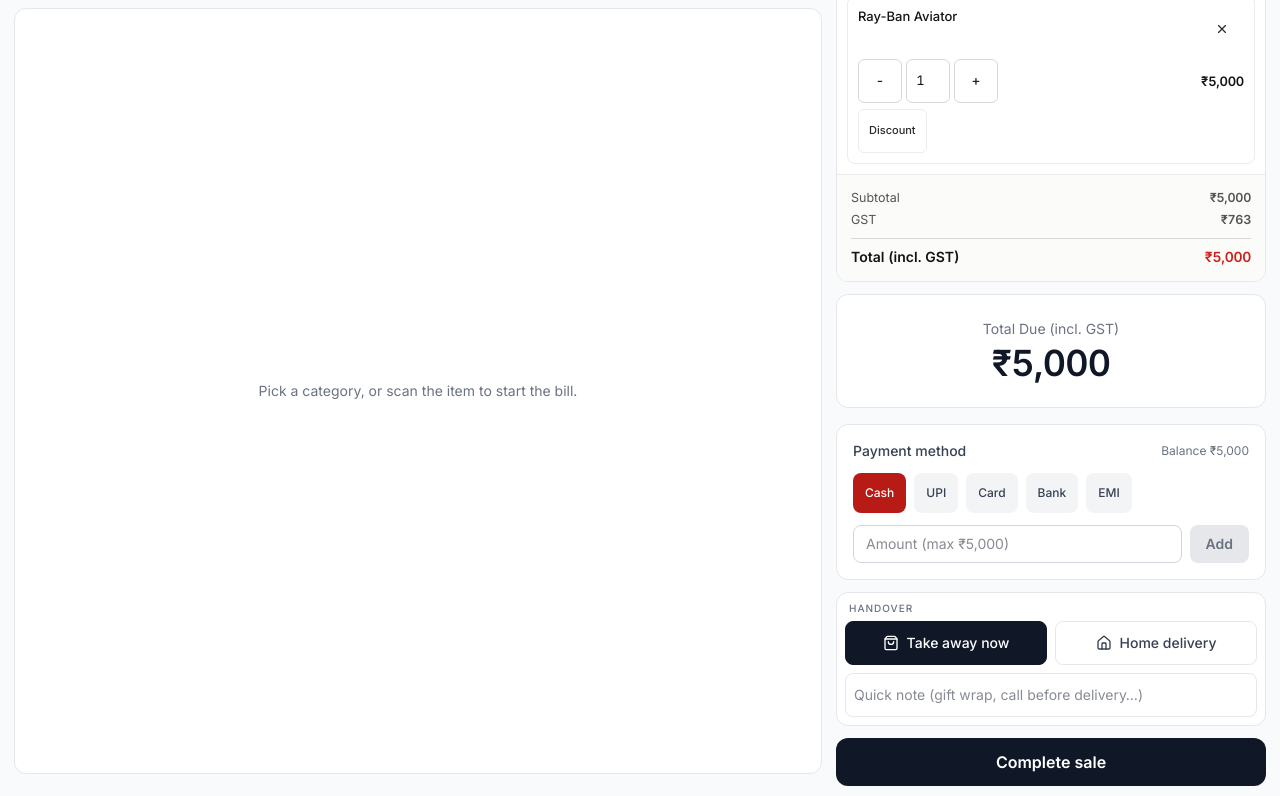
Test: the general counter can actually complete a sale › SHOWS something when the submit throws, rather than swallowing it
(page scrolled)
Click the button "Complete sale" at (1051, 762), box [836,738,1266,786]
(page scrolled)
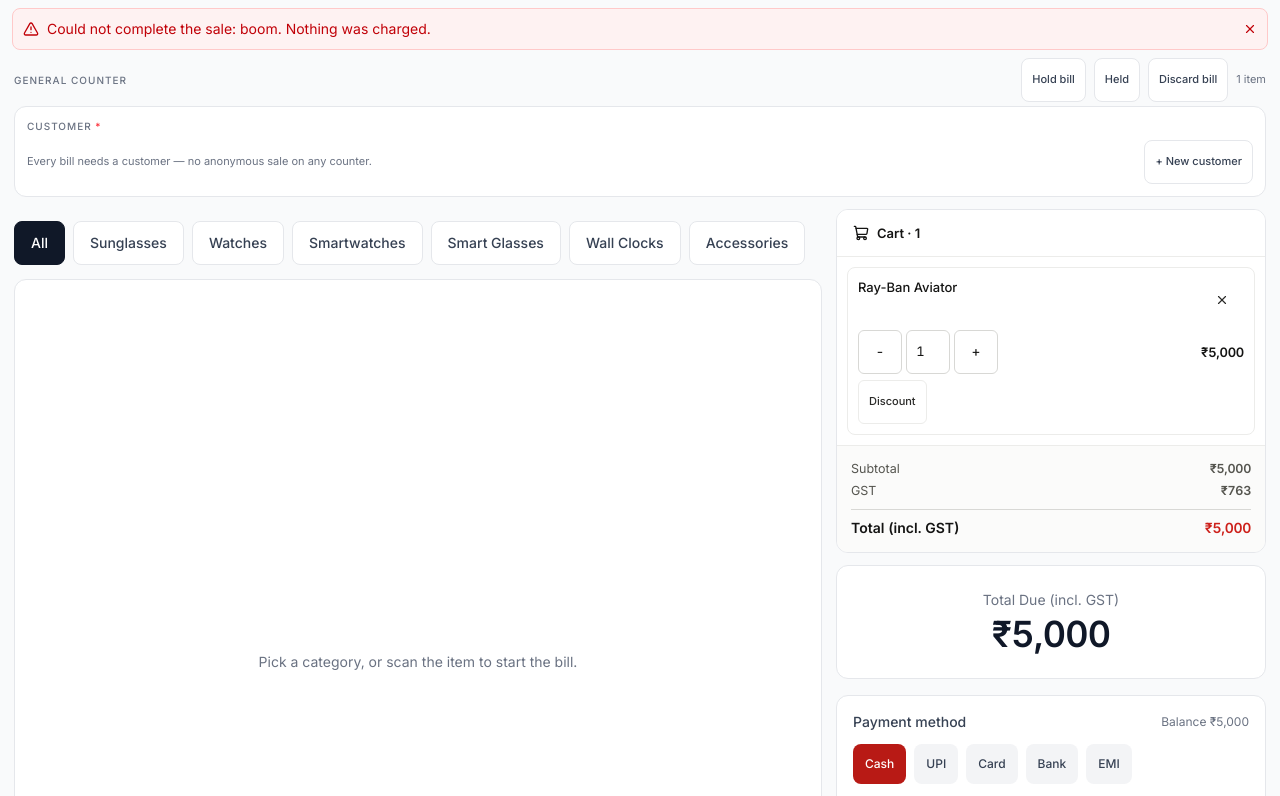
Check: the text "Could not complete the sale: boom. Nothing was charged." is shown, box [47,20,431,37]
